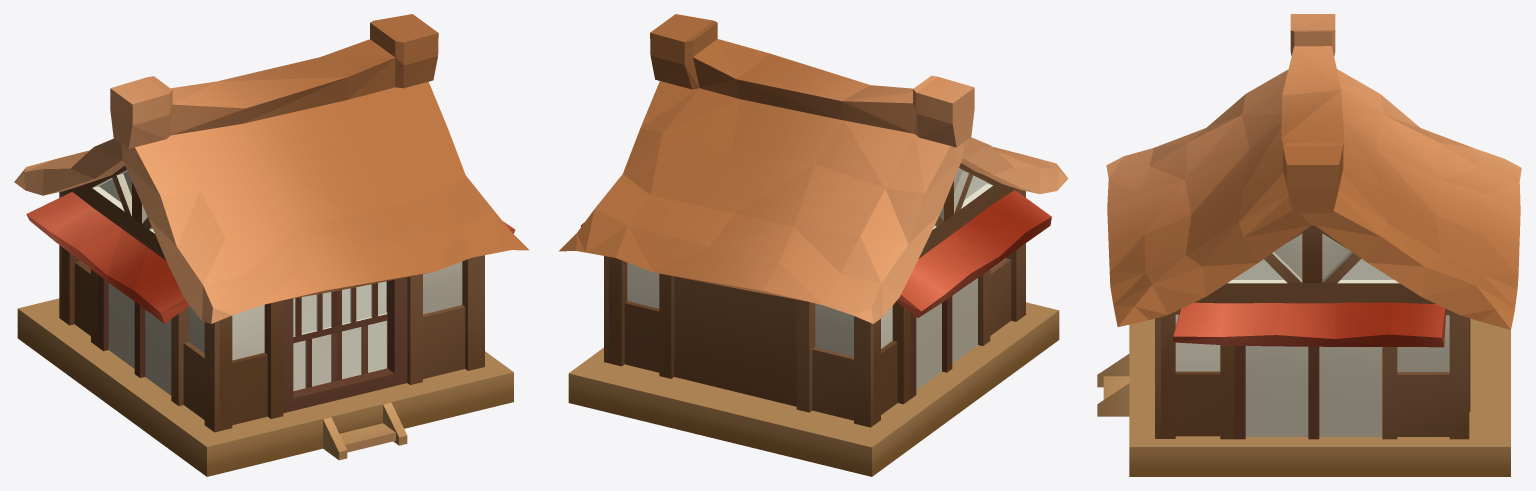
The model's file is House_4x4.gltf.
3 views of the same model, side by side, from view 1: azimuth 30°, elevation 25°; view 2: azimuth 150°, elevation 25°; view 3: azimuth 270°, elevation 25° (orthographic).
Parts seen in each view (by area): view 1: House_4x4_RoofOnly.001, House_4x4_Base.001, House_Wall_Corner.001, House_Wall_Corner.004, House_4x4_LowerRoof.002, House_Door_2m_Sliding_Frame.001, House_Door_Sliding_R.001, House_Door_Sliding_L.001, House_4x4_Gable.001, House_Wall_Corner.002, House_Wall_1m.004, House_Wall_1m.001; view 2: House_4x4_RoofOnly.001, House_4x4_Base.001, House_Wall_2m_Brown.001, House_Wall_Corner.002, House_4x4_LowerRoof.002, House_Wall_Corner.003, House_Wall_Corner.001, House_4x4_Gable.001, House_Wall_1m.004, House_Wall_1m.001; view 3: House_4x4_RoofOnly.001, House_4x4_Base.001, House_4x4_LowerRoof.001, House_4x4_Gable.002, House_Wall_Corner.003, House_Wall_Corner.004, House_Wall_1m.003, House_Wall_1m.002.
Part boxes in pixels (x1=…): House_4x4_RoofOnly.001: x1=14, y1=14, x2=529, y2=323; House_4x4_Base.001: x1=17, y1=298, x2=513, y2=476; House_Wall_Corner.001: x1=171, y1=300, x2=283, y2=432; House_Wall_Corner.004: x1=407, y1=255, x2=484, y2=384; House_4x4_LowerRoof.002: x1=26, y1=192, x2=189, y2=323; House_Door_2m_Sliding_Frame.001: x1=283, y1=277, x2=407, y2=413; House_Door_Sliding_R.001: x1=337, y1=281, x2=387, y2=380; House_Door_Sliding_L.001: x1=293, y1=291, x2=336, y2=391; House_4x4_Gable.001: x1=65, y1=166, x2=166, y2=260; House_Wall_Corner.002: x1=59, y1=191, x2=97, y2=346; House_Wall_1m.004: x1=134, y1=302, x2=171, y2=395; House_Wall_1m.001: x1=98, y1=275, x2=134, y2=368; House_4x4_RoofOnly.001: x1=559, y1=14, x2=1068, y2=323; House_4x4_Base.001: x1=568, y1=302, x2=1059, y2=476; House_Wall_2m_Brown.001: x1=674, y1=276, x2=796, y2=406; House_Wall_Corner.002: x1=796, y1=299, x2=910, y2=427; House_4x4_LowerRoof.002: x1=896, y1=190, x2=1051, y2=317; House_Wall_Corner.003: x1=604, y1=256, x2=674, y2=378; House_Wall_Corner.001: x1=978, y1=189, x2=1025, y2=345; House_4x4_Gable.001: x1=919, y1=163, x2=1018, y2=258; House_Wall_1m.004: x1=942, y1=278, x2=977, y2=372; House_Wall_1m.001: x1=910, y1=303, x2=941, y2=398; House_4x4_RoofOnly.001: x1=1106, y1=14, x2=1521, y2=329; House_4x4_Base.001: x1=1097, y1=318, x2=1510, y2=476; House_4x4_LowerRoof.001: x1=1173, y1=302, x2=1446, y2=347; House_4x4_Gable.002: x1=1194, y1=225, x2=1435, y2=303; House_Wall_Corner.003: x1=1382, y1=309, x2=1470, y2=439; House_Wall_Corner.004: x1=1155, y1=309, x2=1234, y2=439; House_Wall_1m.003: x1=1234, y1=345, x2=1308, y2=439; House_Wall_1m.002: x1=1308, y1=346, x2=1381, y2=439.
Bounding box in the file's own units: 5.54 × 4.76 × 5.76.
Materials: 1 (1 with a texture image).
